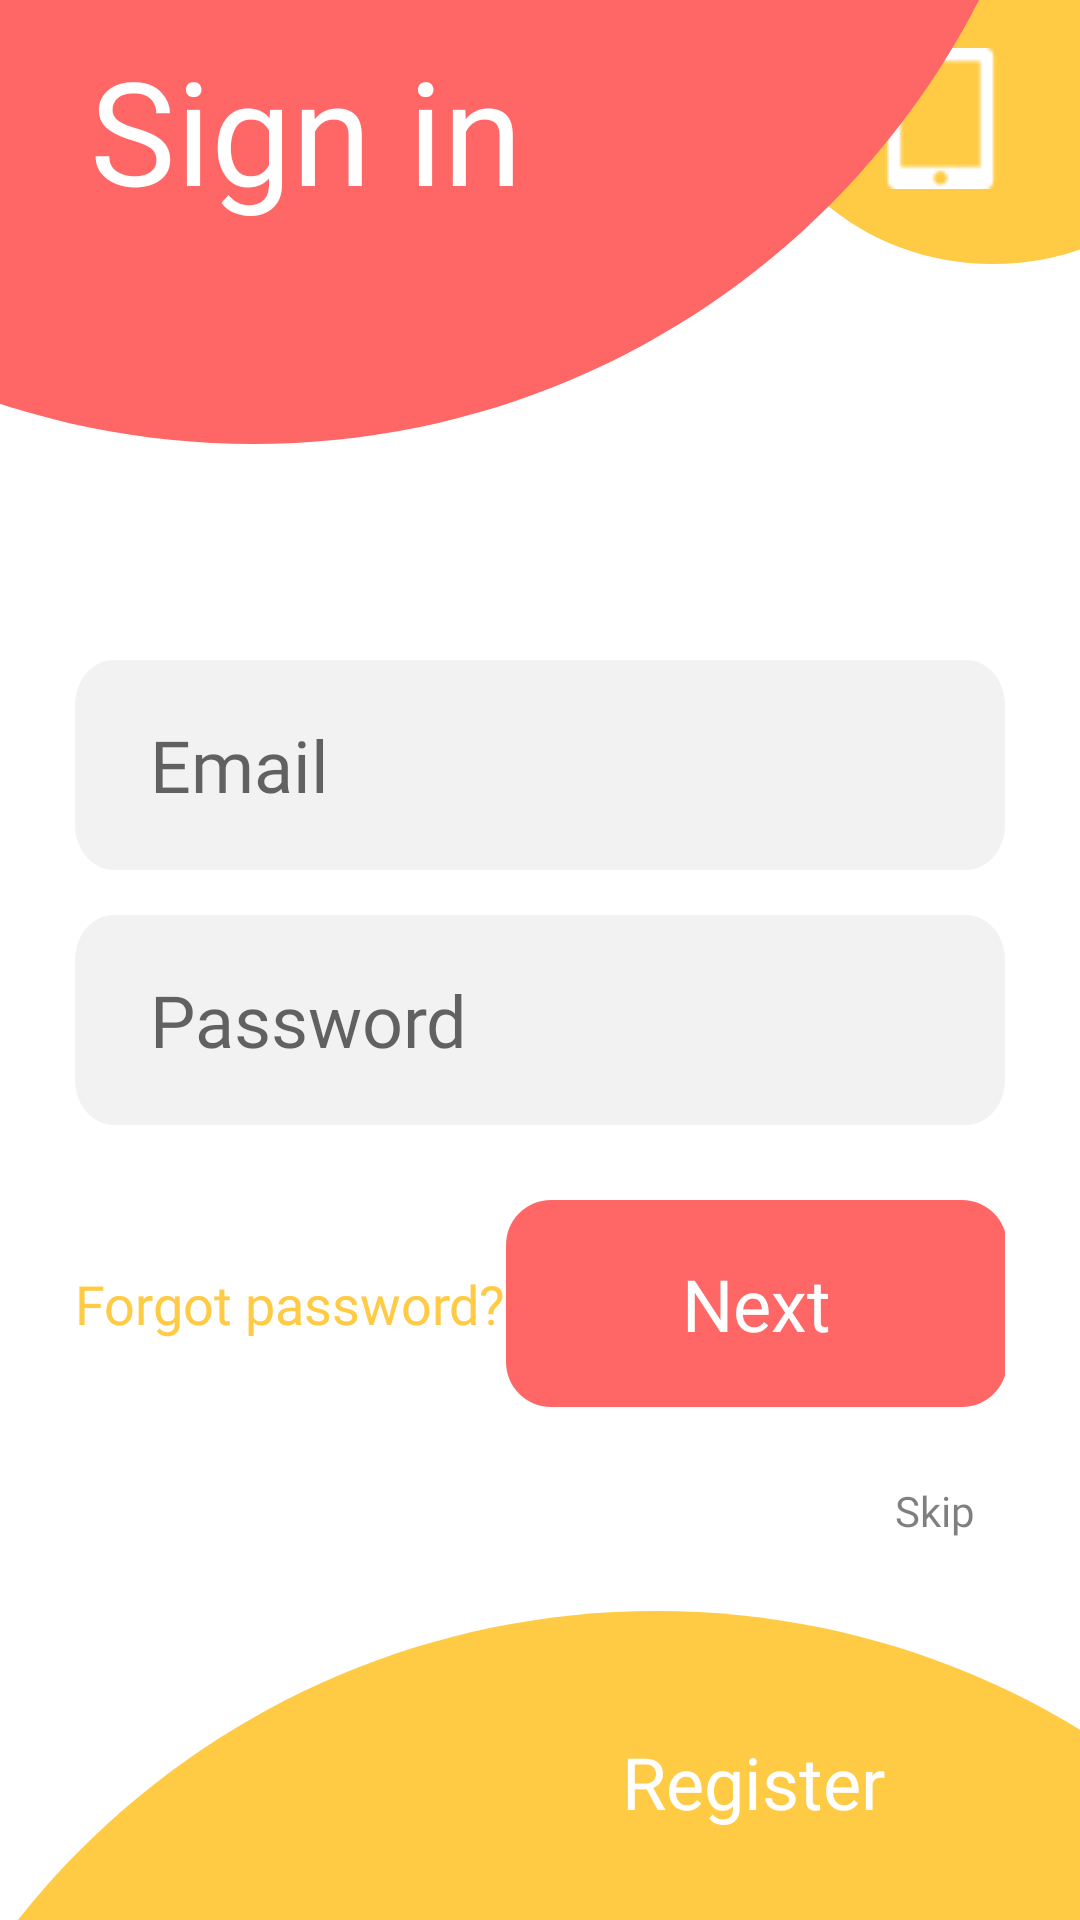

Where icons sit on this 1080 x 1920 app screen, as rect(x1, y1, x2, y2):
tablet: rect(885, 48, 994, 189)
